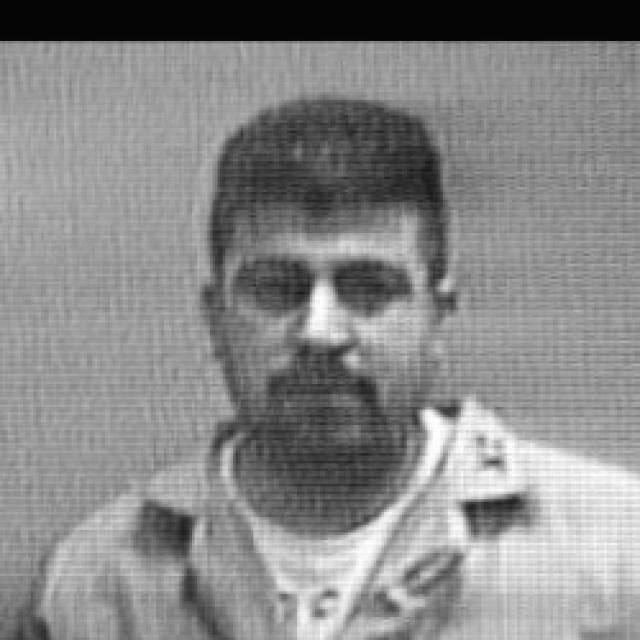real: (217, 177, 447, 467), (240, 247, 400, 330)
